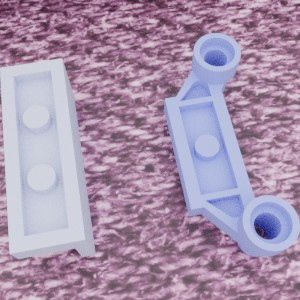lego: (164, 33, 300, 256), (0, 58, 95, 259)
